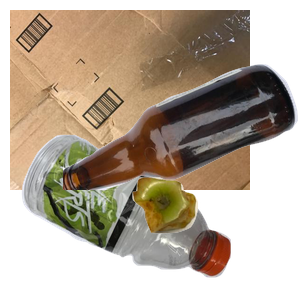cardboard: (10, 10, 250, 190)
glass: (63, 62, 300, 242)
plastic: (19, 132, 242, 300)
trash: (130, 175, 300, 300)
